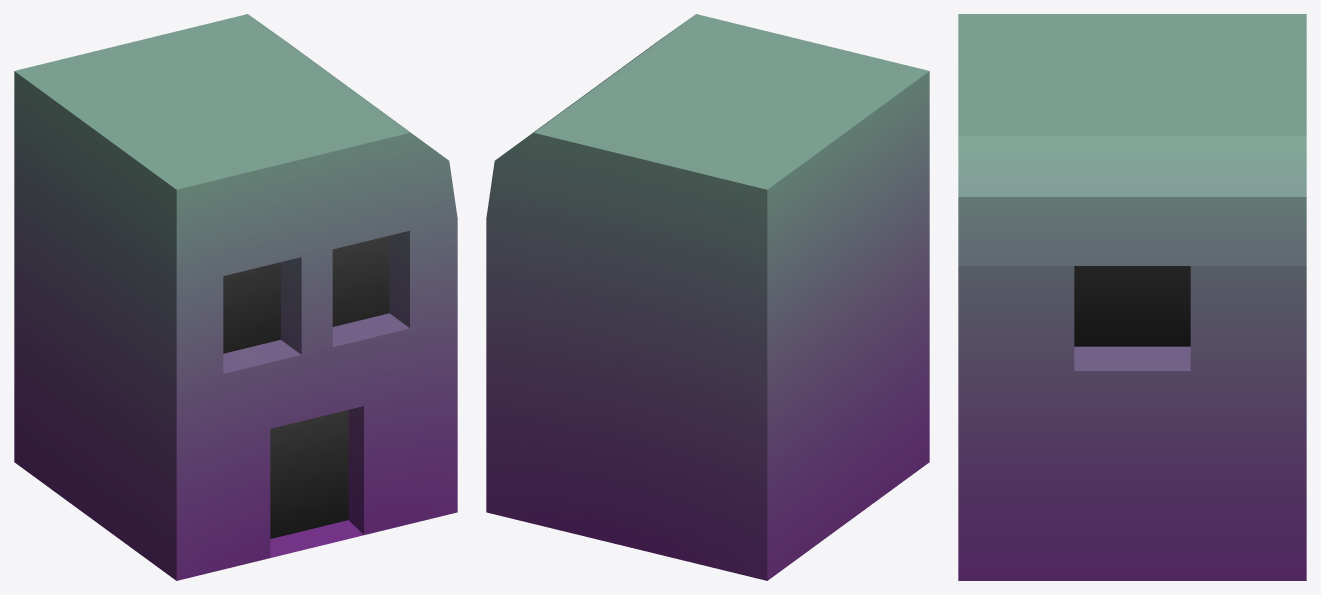
The model's file is House01.fbx.
3 views of the same model, side by side, from view 1: azimuth 30°, elevation 25°; view 2: azimuth 150°, elevation 25°; view 3: azimuth 270°, elevation 25° (orthographic). The views are drawn at different scales.
Parts seen in each view (by area): view 1: House 01; view 2: House 01; view 3: House 01.
Boxes of the visible parts, bbox=[...] form: House 01: bbox=[14, 14, 457, 580]; House 01: bbox=[486, 14, 929, 580]; House 01: bbox=[958, 14, 1306, 580].
Bounding box in the file's own units: 200 × 266 × 200.
